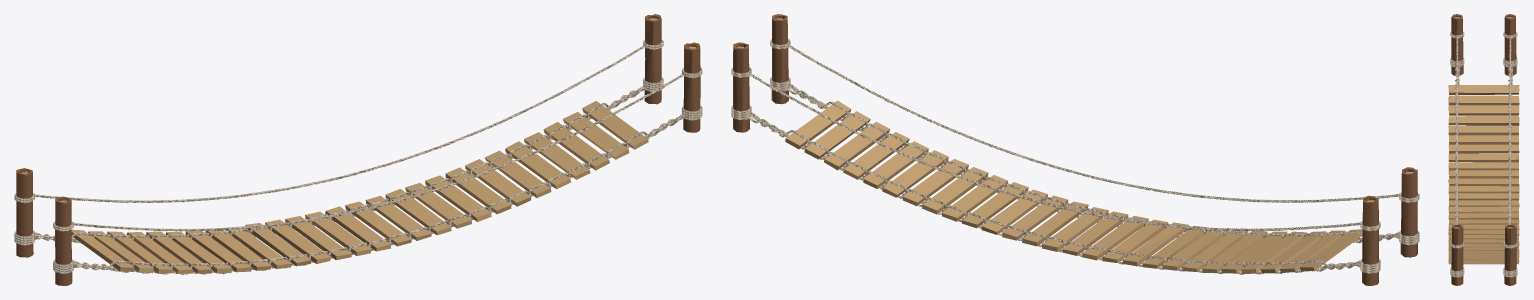
3 views of the same model, side by side, from view 1: azimuth 30°, elevation 25°; view 2: azimuth 150°, elevation 25°; view 3: azimuth 270°, elevation 25° (orthographic). The views are drawn at different scales.
Parts seen in each view (by area): view 1: Bridge; view 2: Bridge; view 3: Bridge.
Part boxes in pixels (x1=…): Bridge: x1=14, y1=14, x2=702, y2=285; Bridge: x1=731, y1=14, x2=1419, y2=285; Bridge: x1=1448, y1=14, x2=1519, y2=285.
Bounding box in the file's own units: 1635 × 309 × 228.
